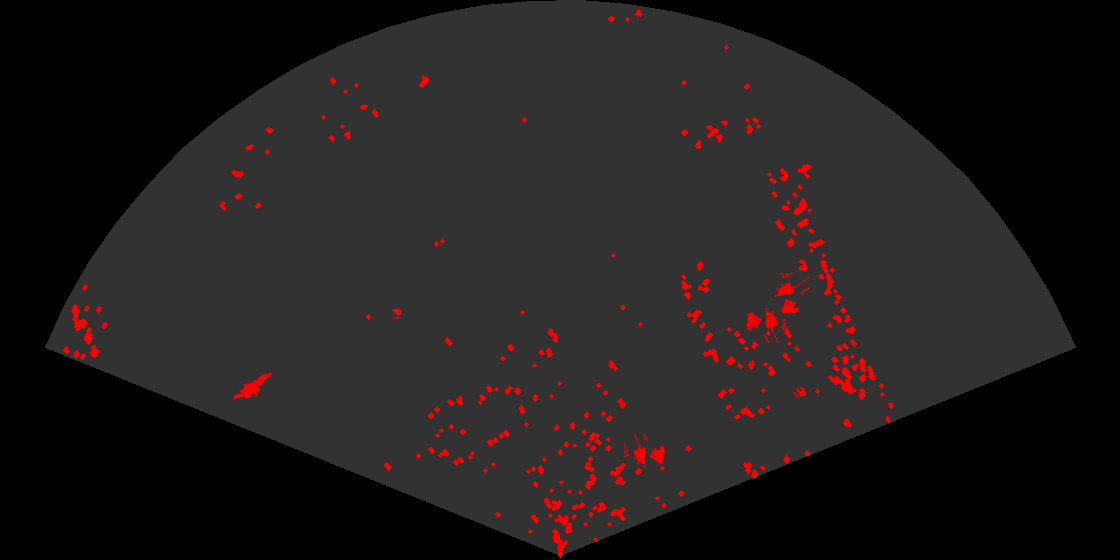ball: (792, 385, 808, 401), (390, 307, 403, 321)
cage: (773, 273, 810, 316), (744, 306, 786, 343), (624, 434, 667, 470)
frogman: (234, 370, 274, 401)
